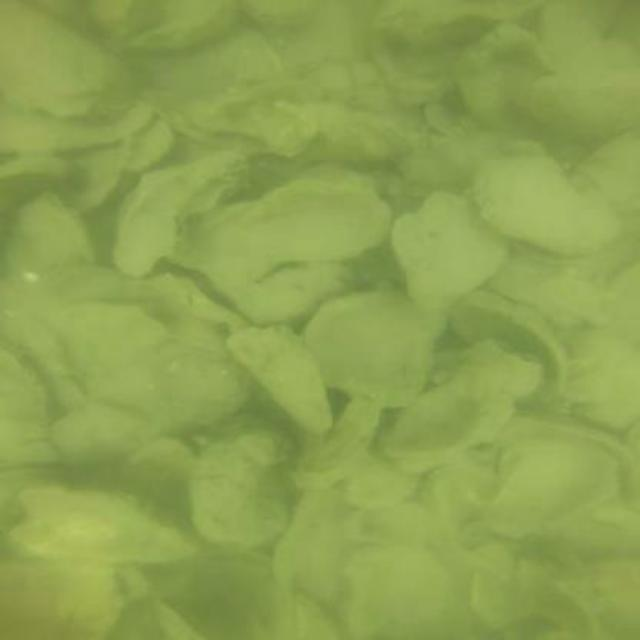Oyster-Closed: (169, 176, 393, 295), (300, 287, 447, 410), (468, 151, 626, 254), (1, 1, 133, 120), (2, 490, 198, 567), (392, 188, 514, 311), (189, 426, 295, 550), (225, 324, 333, 434), (510, 67, 638, 138), (6, 194, 95, 283), (300, 100, 417, 164), (160, 349, 249, 426), (463, 340, 551, 403), (301, 59, 395, 112)
